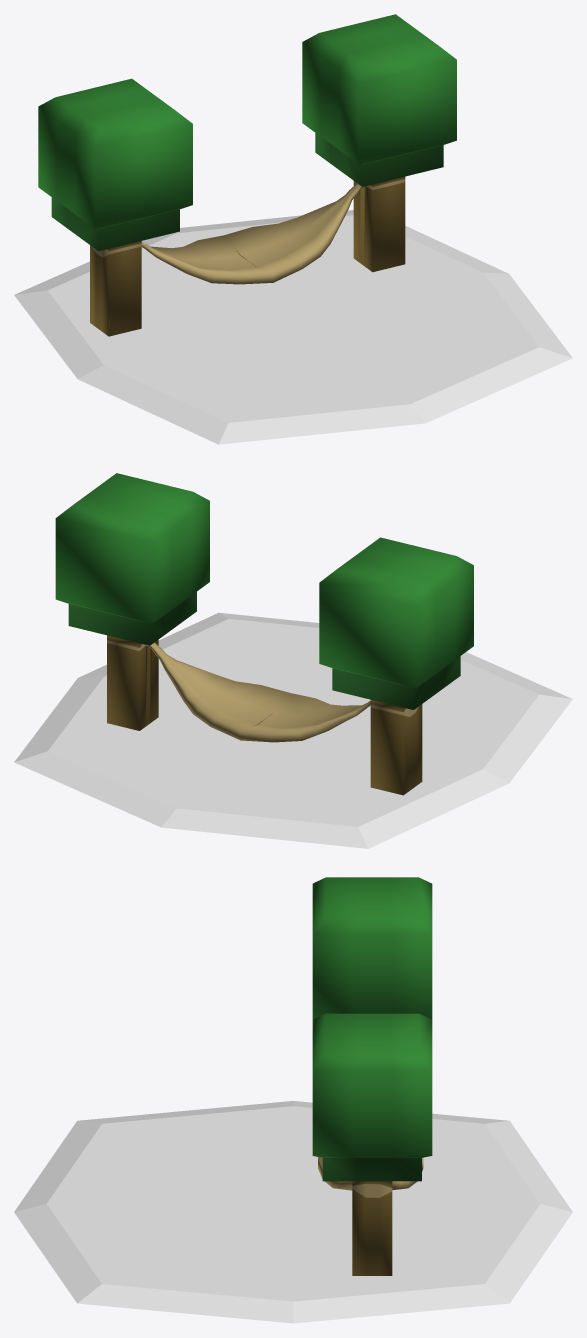
The model's file is save_v2.fbx.
The picture shows the model from 3 angles, top to bottom: view 1: azimuth 30°, elevation 25°; view 2: azimuth 150°, elevation 25°; view 3: azimuth 270°, elevation 25°; orthographic projection. The views are drawn at different scales.
Parts seen in each view (by area): view 1: Cube, Cube.001; view 2: Cube, Cube.001; view 3: Cube, Cube.001.
Boxes of the visible parts, left/top/right/bottom form: Cube: left=14, top=210, right=572, bottom=444; Cube.001: left=38, top=14, right=456, bottom=336; Cube: left=14, top=612, right=572, bottom=848; Cube.001: left=55, top=473, right=473, bottom=795; Cube: left=14, top=1101, right=572, bottom=1323; Cube.001: left=312, top=877, right=432, bottom=1275.
Size of the model in its own units: 1155 by 587 by 1225.
1 material, 1 textured.
